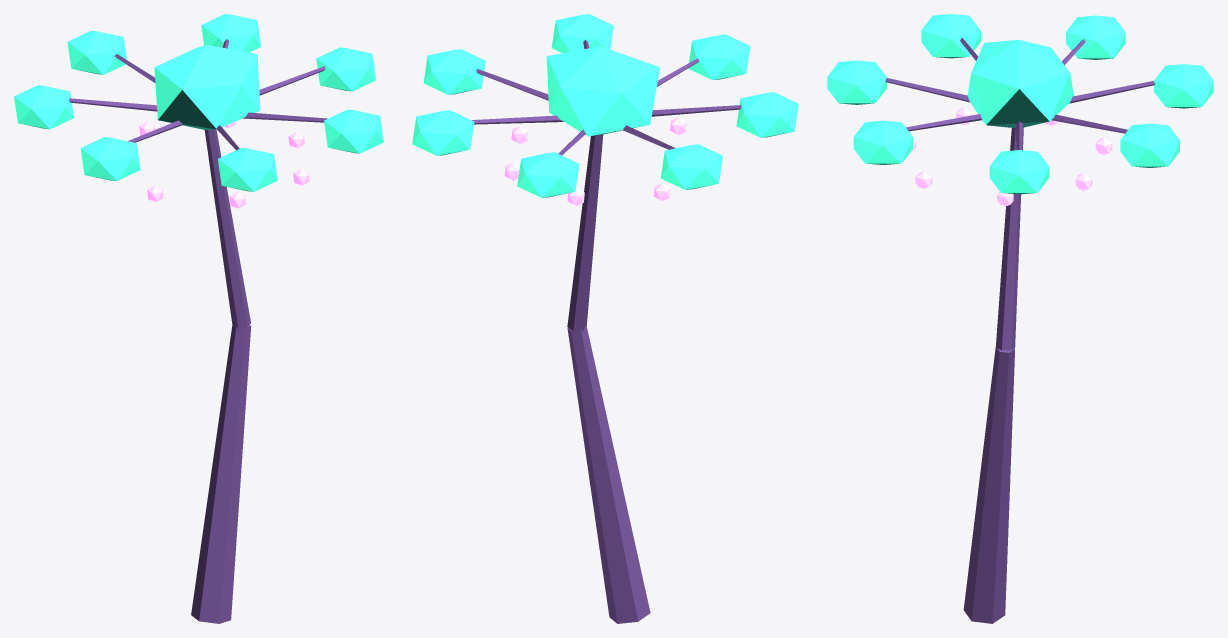
Rendered from Alien_Tree_Tall.glb.
3 views of the same model, side by side, from view 1: azimuth 30°, elevation 25°; view 2: azimuth 150°, elevation 25°; view 3: azimuth 270°, elevation 25° (orthographic). The views are drawn at different scales.
Visible parts, largest first — view 1: Alien_Tree_Tall; view 2: Alien_Tree_Tall; view 3: Alien_Tree_Tall.
Boxes of the visible parts, x1,y1,x2,y2 form: Alien_Tree_Tall: [14, 14, 383, 623]; Alien_Tree_Tall: [412, 14, 798, 623]; Alien_Tree_Tall: [827, 14, 1213, 623].
Size of the model in its own units: 5.49 by 9.17 by 5.52.
1 material, 1 textured.
